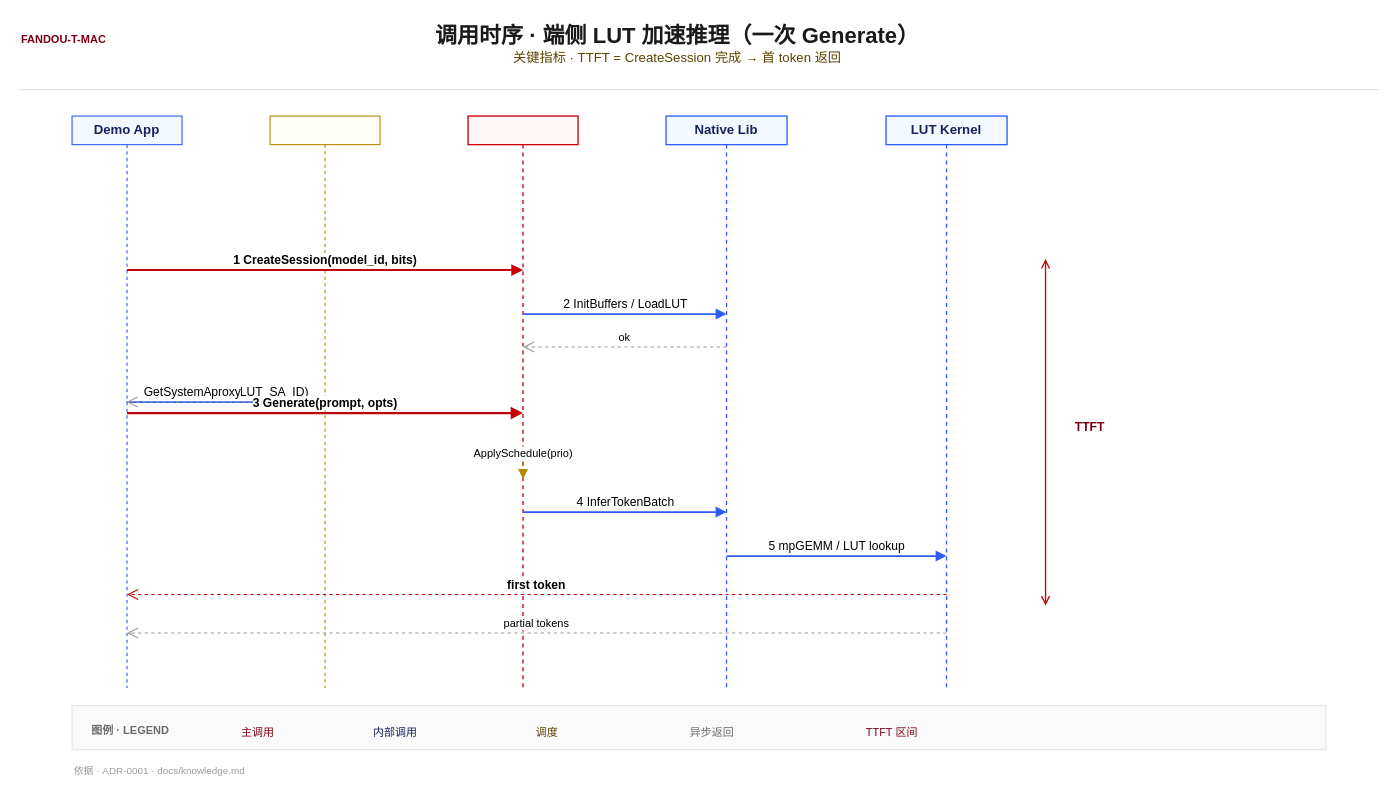
This 1399x796 diagram has some shape labels left out. Here are the shapes that lost their labels. From the top down, the box of each, then its label:
(269, 115, 380, 688): SAMgr
(467, 115, 578, 688): LUT SA
